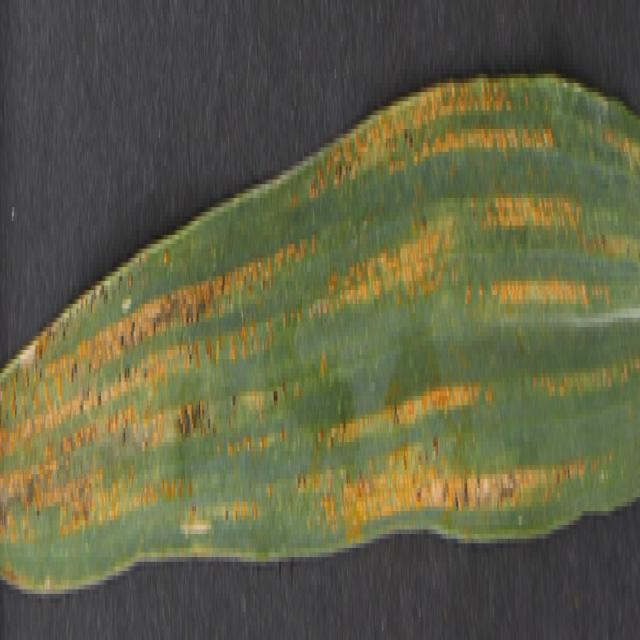leaf rust: (1, 87, 636, 640)
